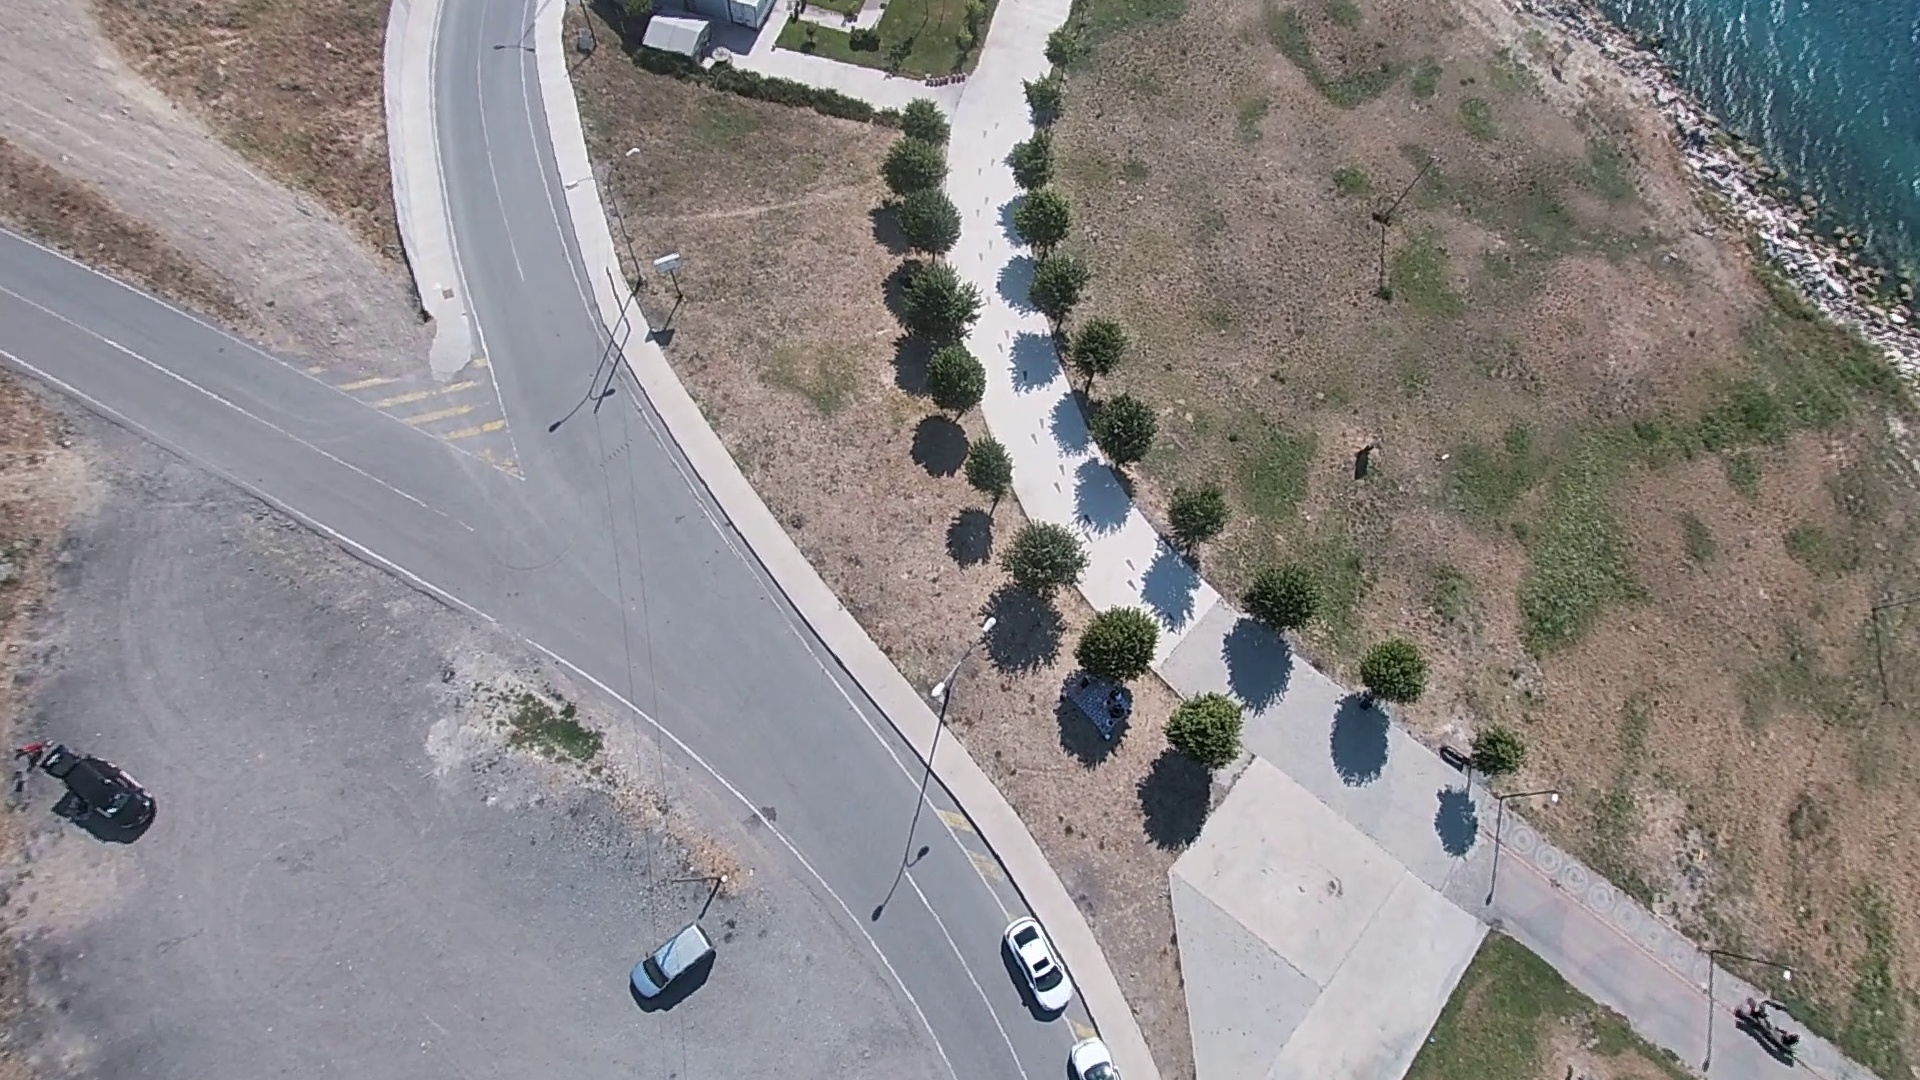arac: (1001, 914, 1077, 1020), (623, 921, 715, 1006)
insan: (1351, 442, 1375, 482)
